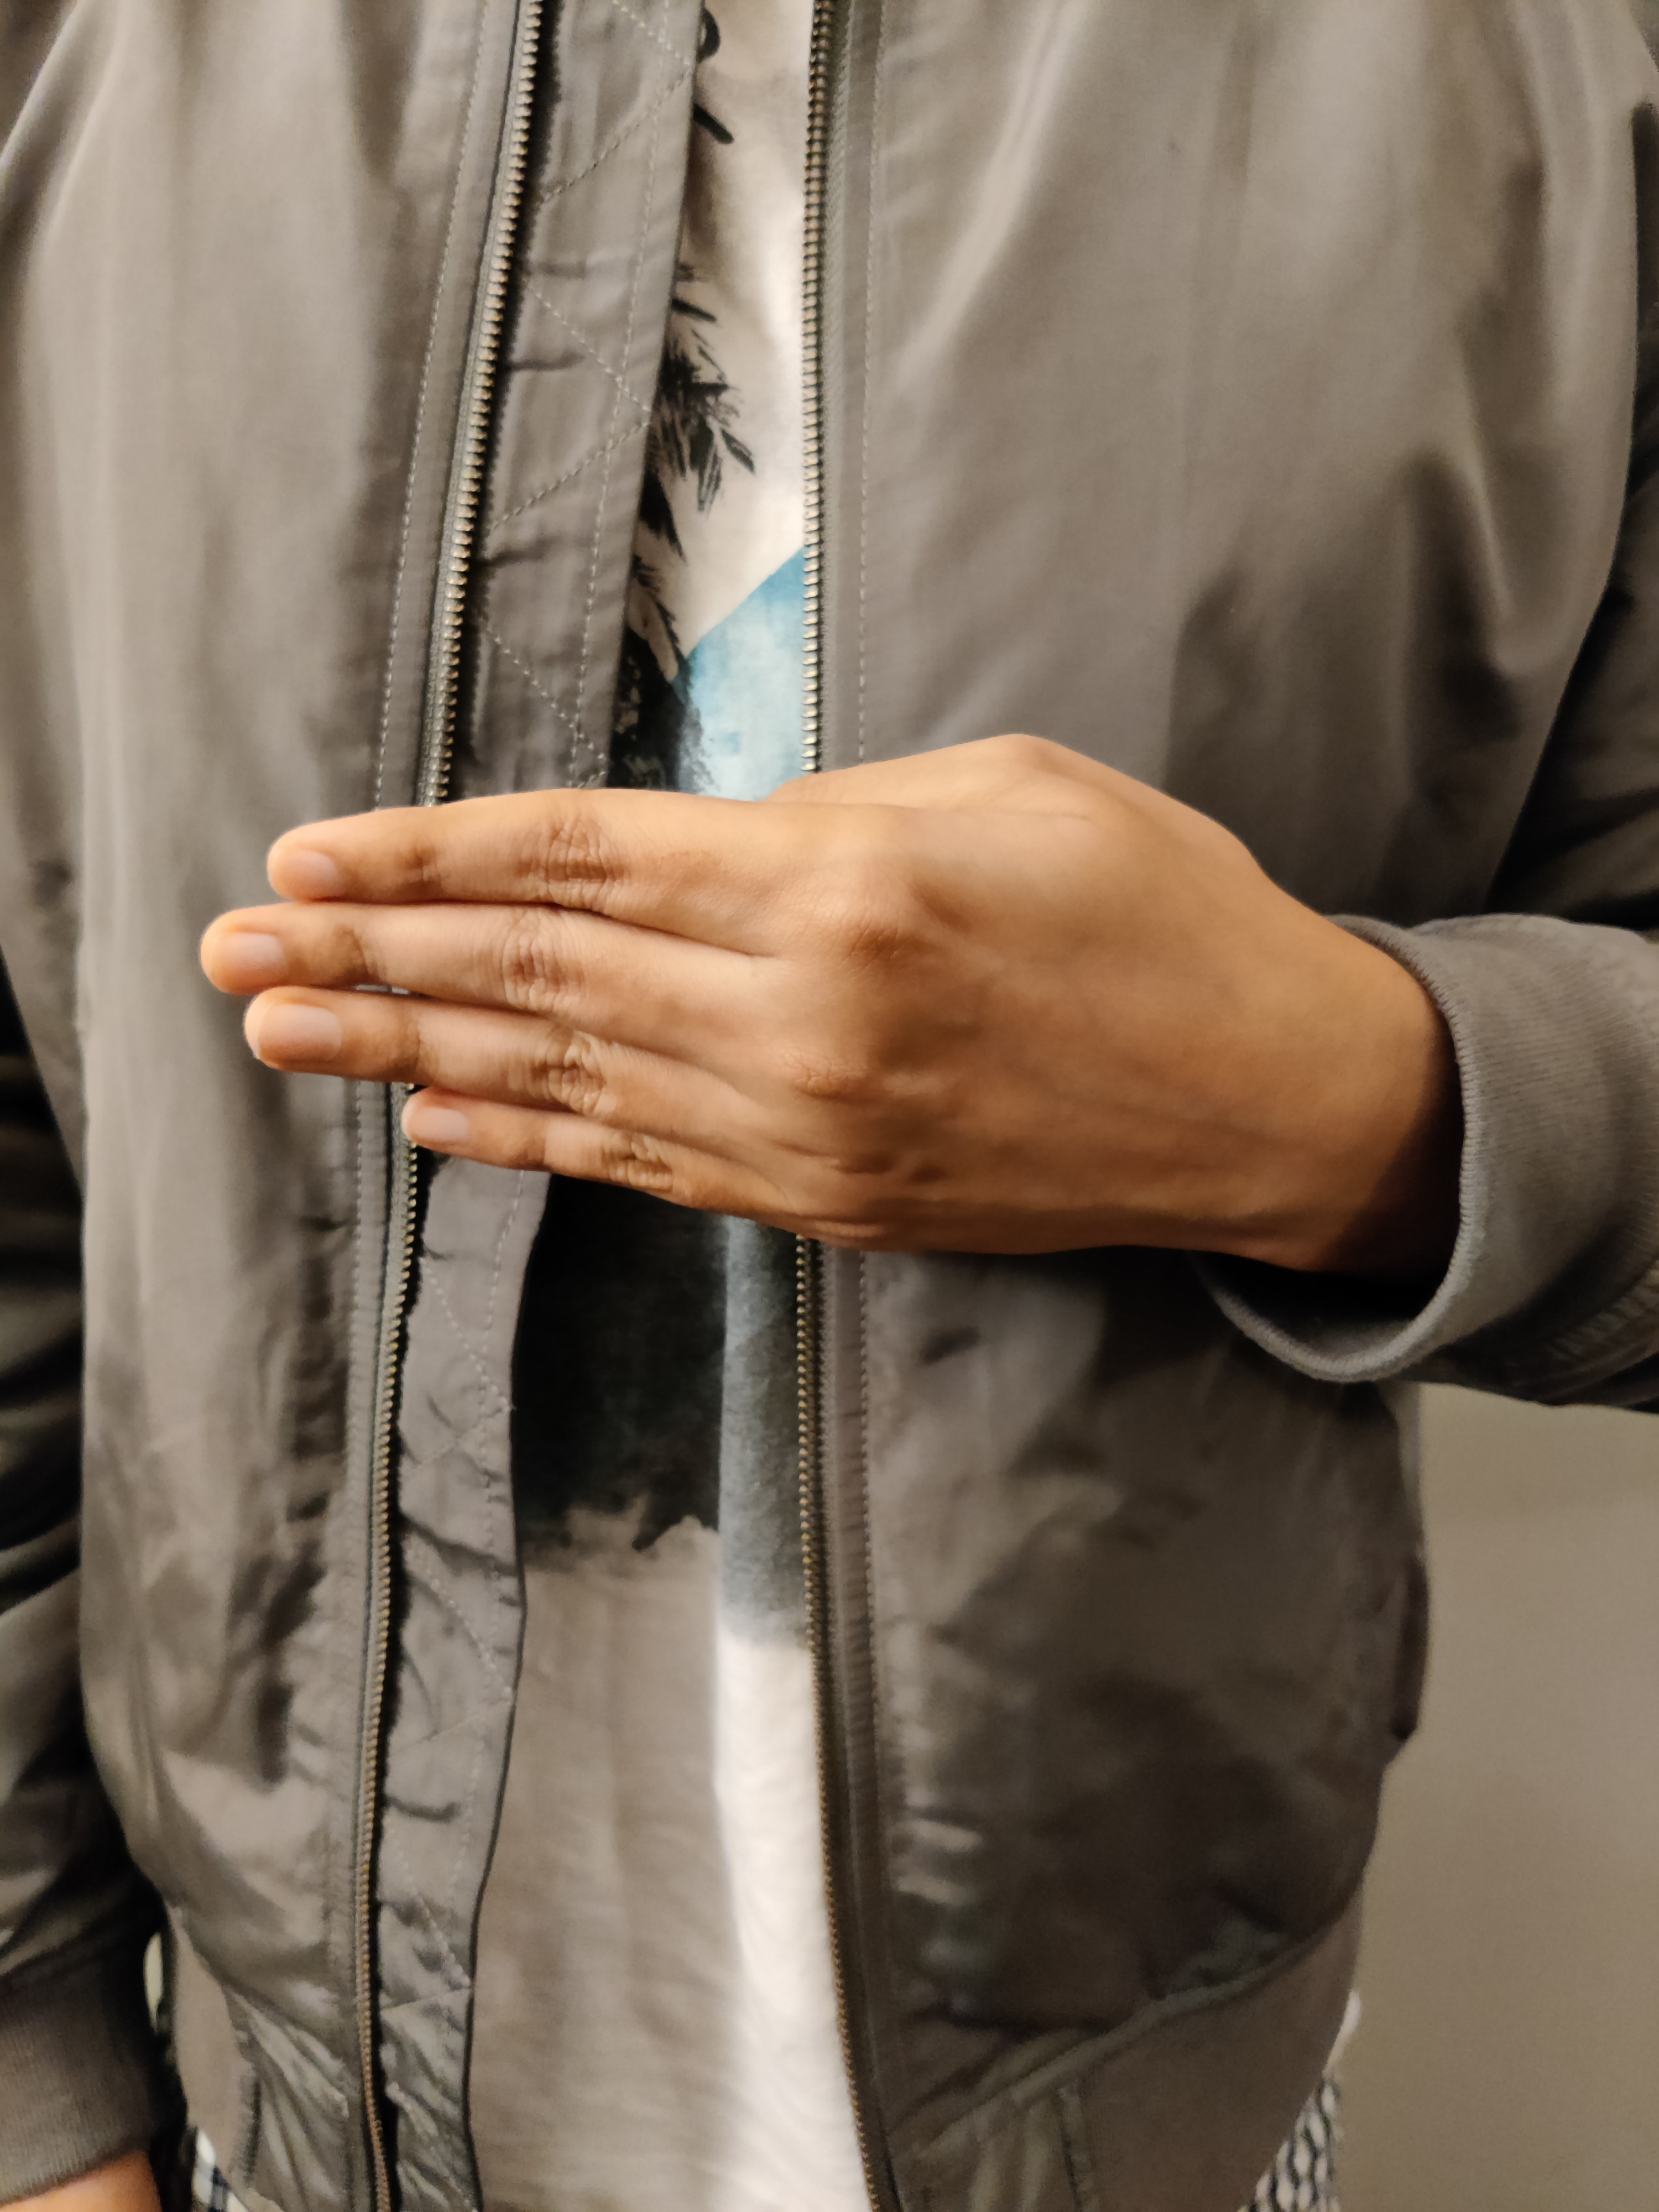right: (125, 585, 1624, 1534)
